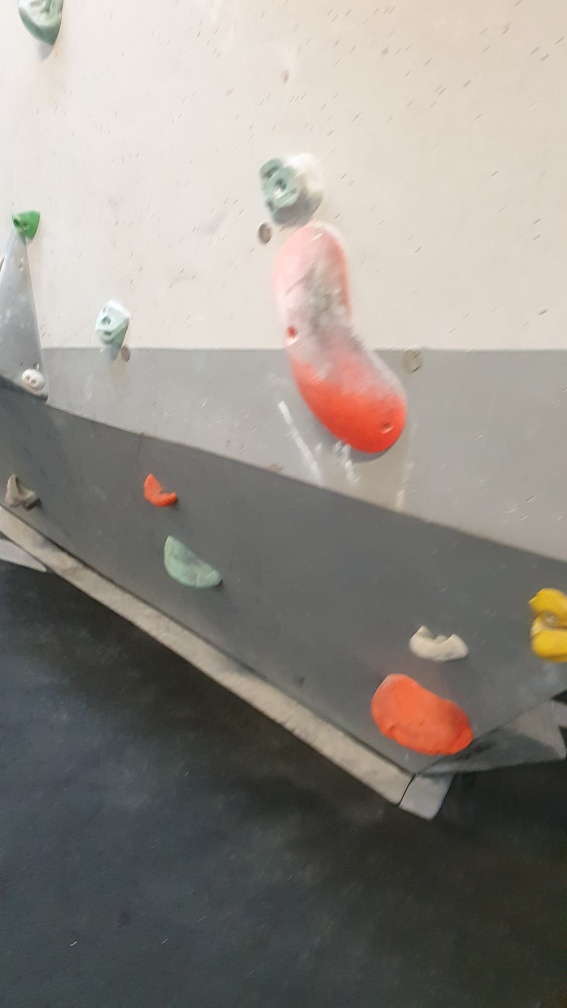Pinch: (278, 223, 410, 457)
